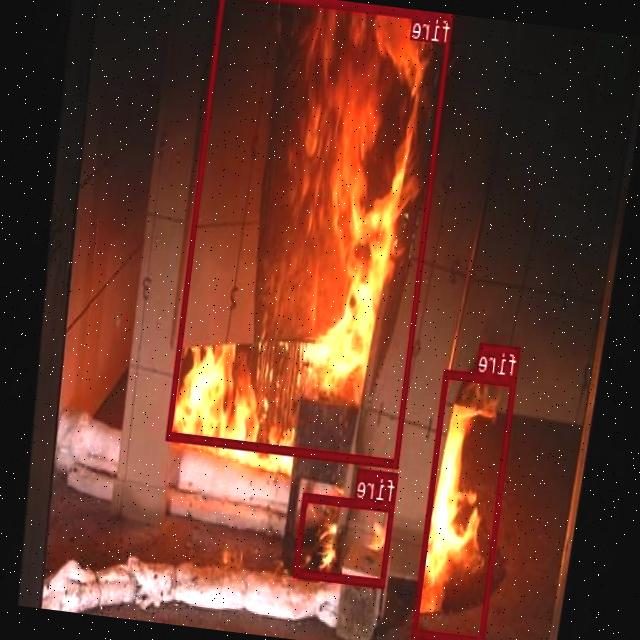fire: (167, 0, 454, 467), (412, 367, 516, 640), (294, 492, 395, 586)
